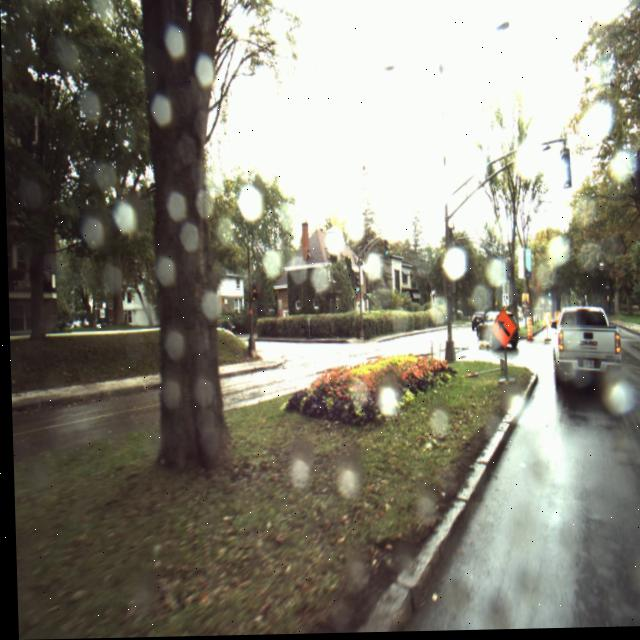car: (549, 308, 619, 393), (473, 312, 517, 349), (468, 313, 482, 335)
trafficLight: (558, 150, 571, 190)
trafficLight-Green: (353, 274, 359, 294), (382, 242, 388, 261)
